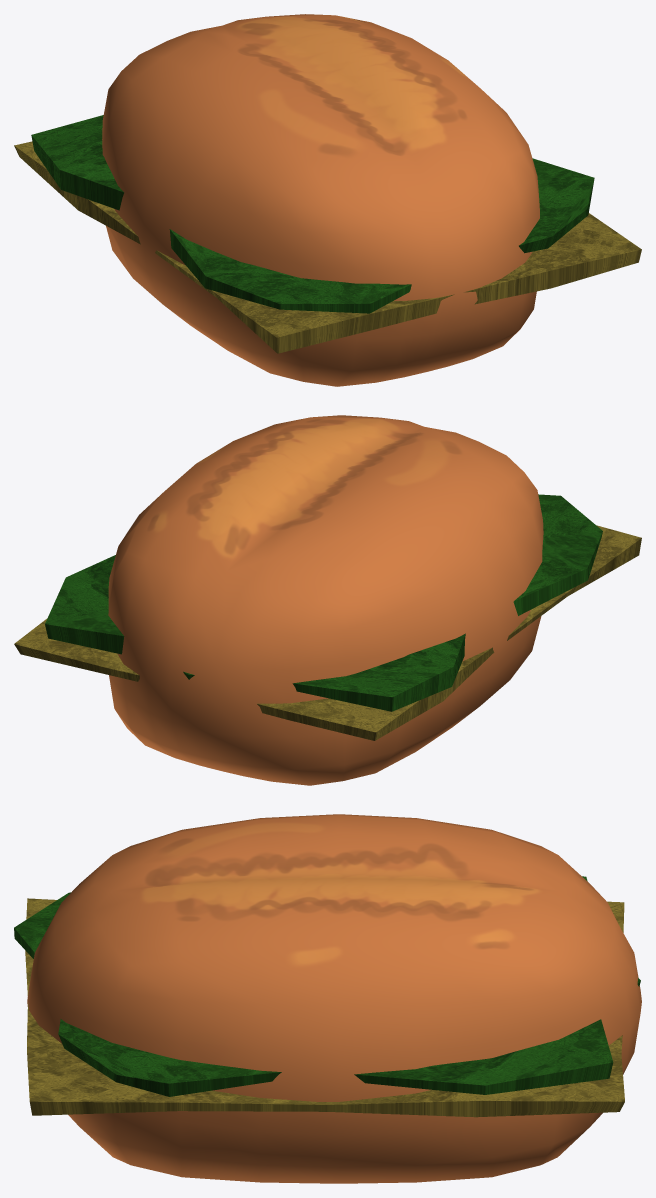
Rendered from bread_sandwich.glb.
3 views of the same model, one above another, from view 1: azimuth 30°, elevation 25°; view 2: azimuth 150°, elevation 25°; view 3: azimuth 270°, elevation 25° (orthographic). The views are drawn at different scales.
Parts seen in each view (by area): view 1: bread_sandwich, Plane.001, Plane; view 2: bread_sandwich, Plane.001, Plane; view 3: bread_sandwich, Plane, Plane.001.
Boxes of the visible parts, x1,y1,x2,y2 form: bread_sandwich: [102, 14, 539, 386]; Plane.001: [31, 115, 594, 313]; Plane: [14, 141, 641, 353]; bread_sandwich: [108, 415, 543, 785]; Plane.001: [45, 494, 602, 711]; Plane: [14, 525, 641, 740]; bread_sandwich: [27, 814, 641, 1183]; Plane: [25, 898, 624, 1117]; Plane.001: [14, 876, 640, 1096].
Size of the model in its own units: 2.83 by 1.64 by 3.47.
Materials: 3 (3 with a texture image).
